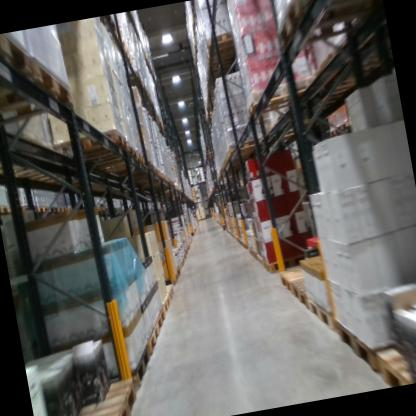pallet: (326, 297, 416, 382), (0, 39, 84, 129), (235, 72, 329, 128), (266, 0, 380, 43), (41, 373, 138, 416), (52, 118, 129, 167), (101, 340, 157, 398), (275, 257, 321, 307), (372, 335, 416, 386), (0, 32, 34, 88), (200, 27, 252, 63), (87, 146, 147, 177), (305, 288, 340, 339), (266, 117, 317, 149), (80, 142, 137, 169), (289, 273, 318, 316), (152, 271, 180, 310), (94, 12, 127, 41), (103, 34, 132, 66), (139, 320, 163, 355), (226, 137, 266, 157), (147, 307, 168, 336), (150, 295, 171, 317), (17, 200, 38, 215), (0, 199, 12, 217), (66, 202, 81, 216), (36, 202, 50, 216), (48, 203, 59, 215), (57, 204, 67, 213), (100, 205, 109, 213), (96, 205, 102, 213)
